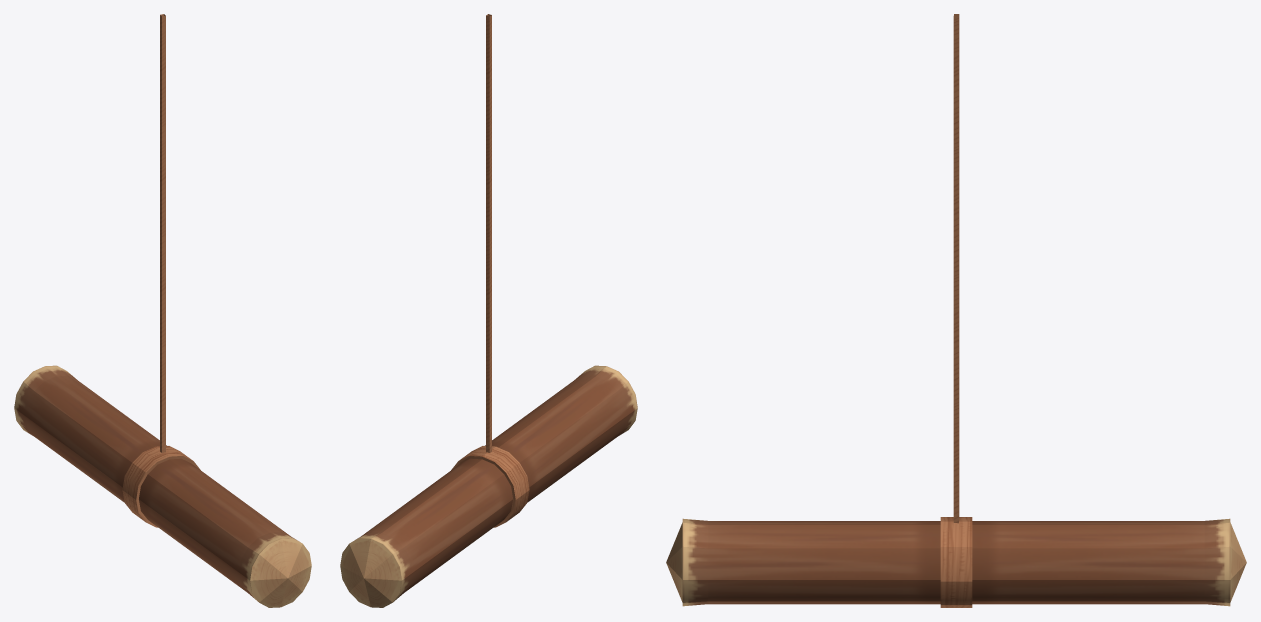
The model's file is Tronco_Completo.fbx.
The picture shows the model from 3 angles, left to right: view 1: azimuth 30°, elevation 25°; view 2: azimuth 150°, elevation 25°; view 3: azimuth 270°, elevation 25°; orthographic projection. The views are drawn at different scales.
Parts seen in each view (by area): view 1: Tronco; view 2: Tronco; view 3: Tronco.
Boxes of the visible parts, box(x1,y1,x2,y2) form: Tronco: box(14, 14, 311, 607); Tronco: box(340, 14, 637, 607); Tronco: box(666, 14, 1246, 607).
Bounding box in the file's own units: 218 × 1570 × 1405.
1 material, 1 textured.
